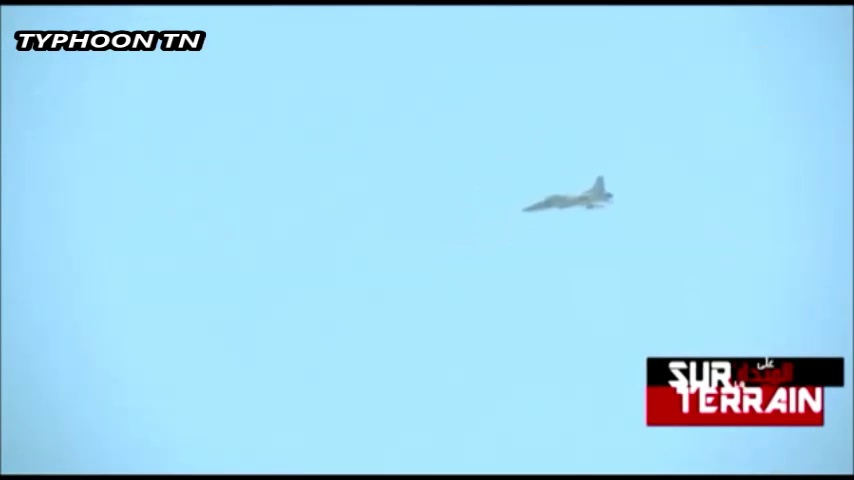Airplane: (520, 175, 613, 216)
